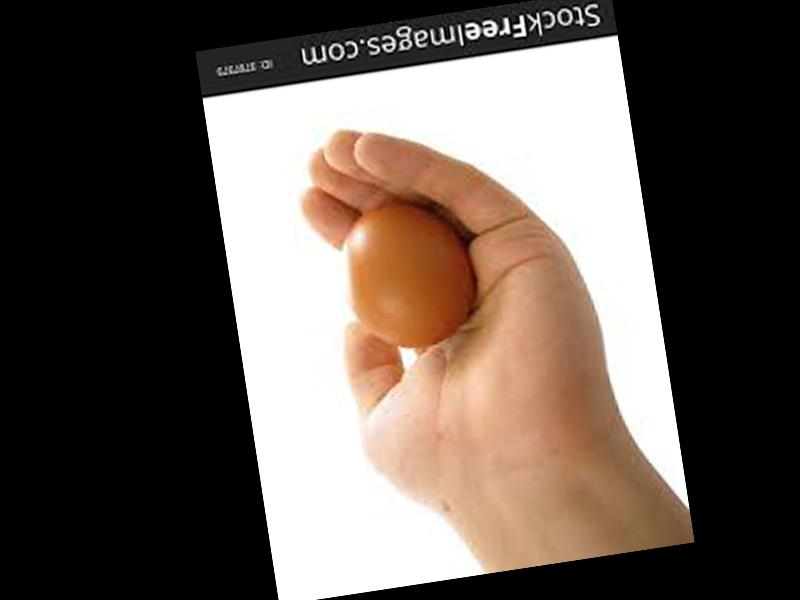Eggs: (334, 184, 479, 358)
